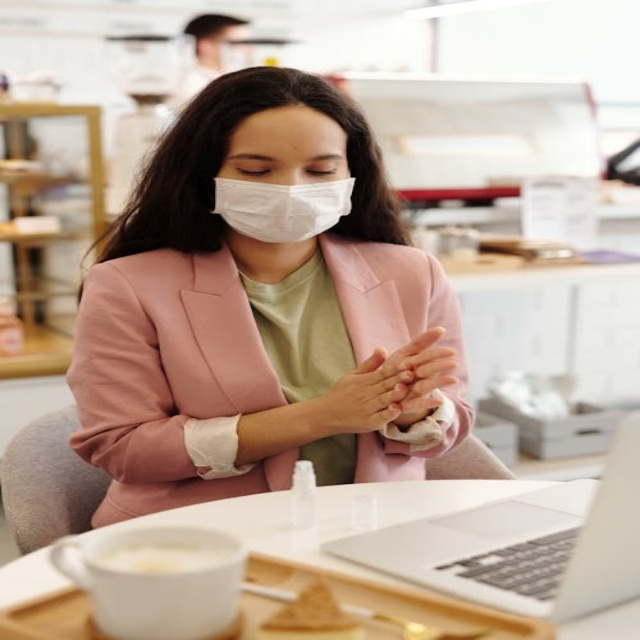Mascara: (209, 175, 356, 243)
Sin_gafas: (228, 149, 346, 183)
Sin_guantes: (306, 328, 453, 438)
